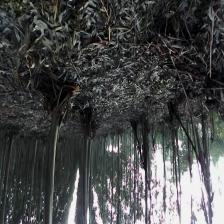trunk: (43, 112, 61, 220), (1, 132, 15, 210), (80, 132, 90, 219)
